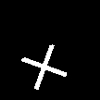single_crochet: (22, 45, 66, 89)
